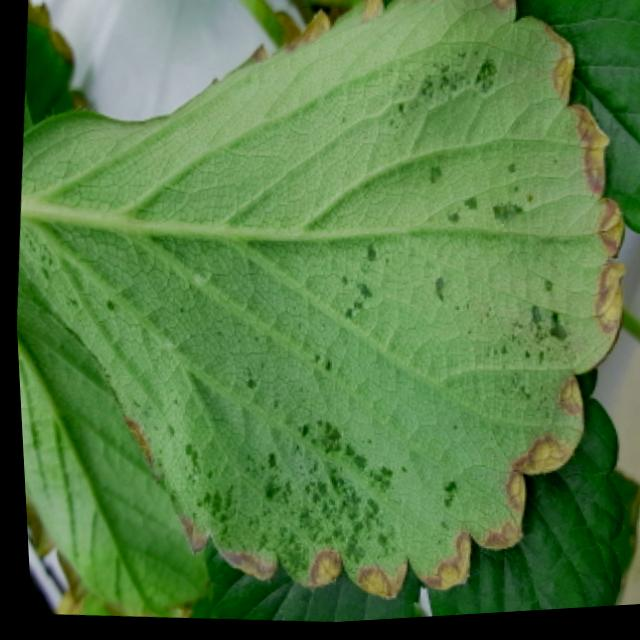Angular Leafspot: (14, 0, 622, 605)
